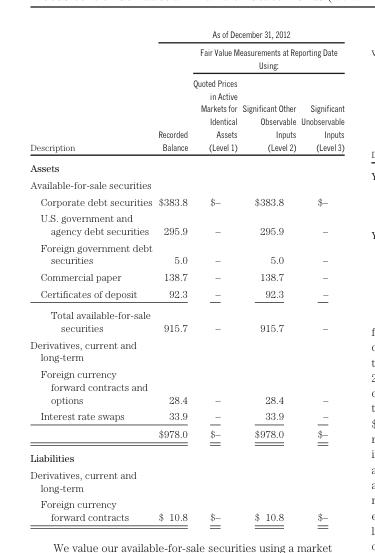table: (29, 28, 343, 522)
table column: (29, 28, 154, 522), (239, 28, 297, 522), (189, 28, 239, 522), (297, 28, 343, 522), (154, 28, 189, 522)
table column header: (29, 28, 343, 156)
table projected row header: (29, 335, 343, 365), (29, 466, 343, 495), (29, 445, 343, 466), (29, 156, 343, 176), (29, 176, 343, 192)
table row: (29, 73, 343, 156), (29, 365, 343, 407), (29, 303, 343, 335), (29, 43, 343, 73), (29, 238, 343, 268), (29, 335, 343, 365), (29, 209, 343, 238), (29, 466, 343, 495), (29, 495, 343, 522), (29, 424, 343, 445), (29, 445, 343, 466), (29, 156, 343, 176), (29, 284, 343, 303), (29, 192, 343, 209), (29, 407, 343, 424), (29, 176, 343, 192), (29, 268, 343, 284), (29, 28, 343, 43)
table spanning cell: (29, 28, 154, 156), (189, 43, 343, 73), (154, 43, 189, 156), (154, 28, 343, 43)
